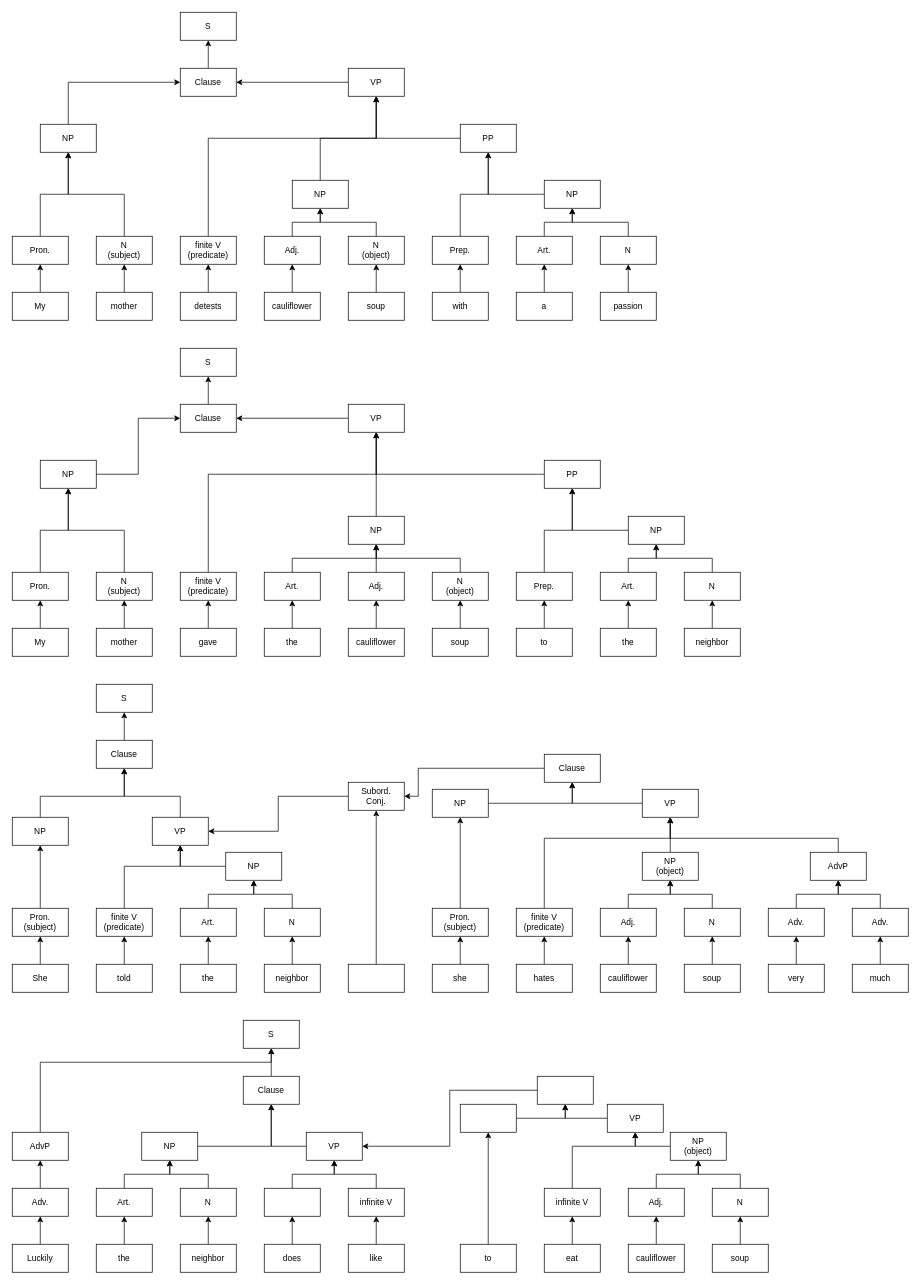
This 921x1285 diagram has some shape labels left out. The centre of each missing label's shape, as x and y in pixels:
"aux V (predicate)" goes at (x=292, y=1202).
"Compl. Clause" goes at (x=565, y=1090).
"Part." goes at (x=488, y=1118).
"that" goes at (x=376, y=978).
